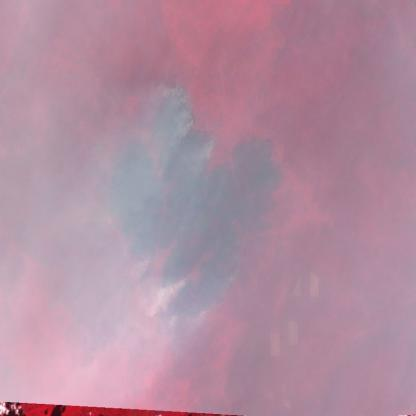fire: (145, 80, 219, 295)
